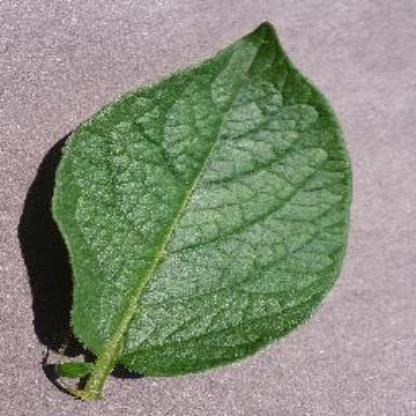Healthy-plant: (38, 17, 356, 398)
